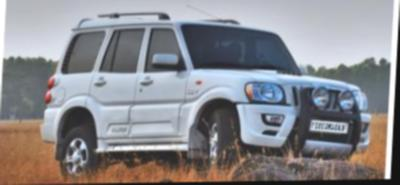License_Plate: (308, 120, 353, 131)
